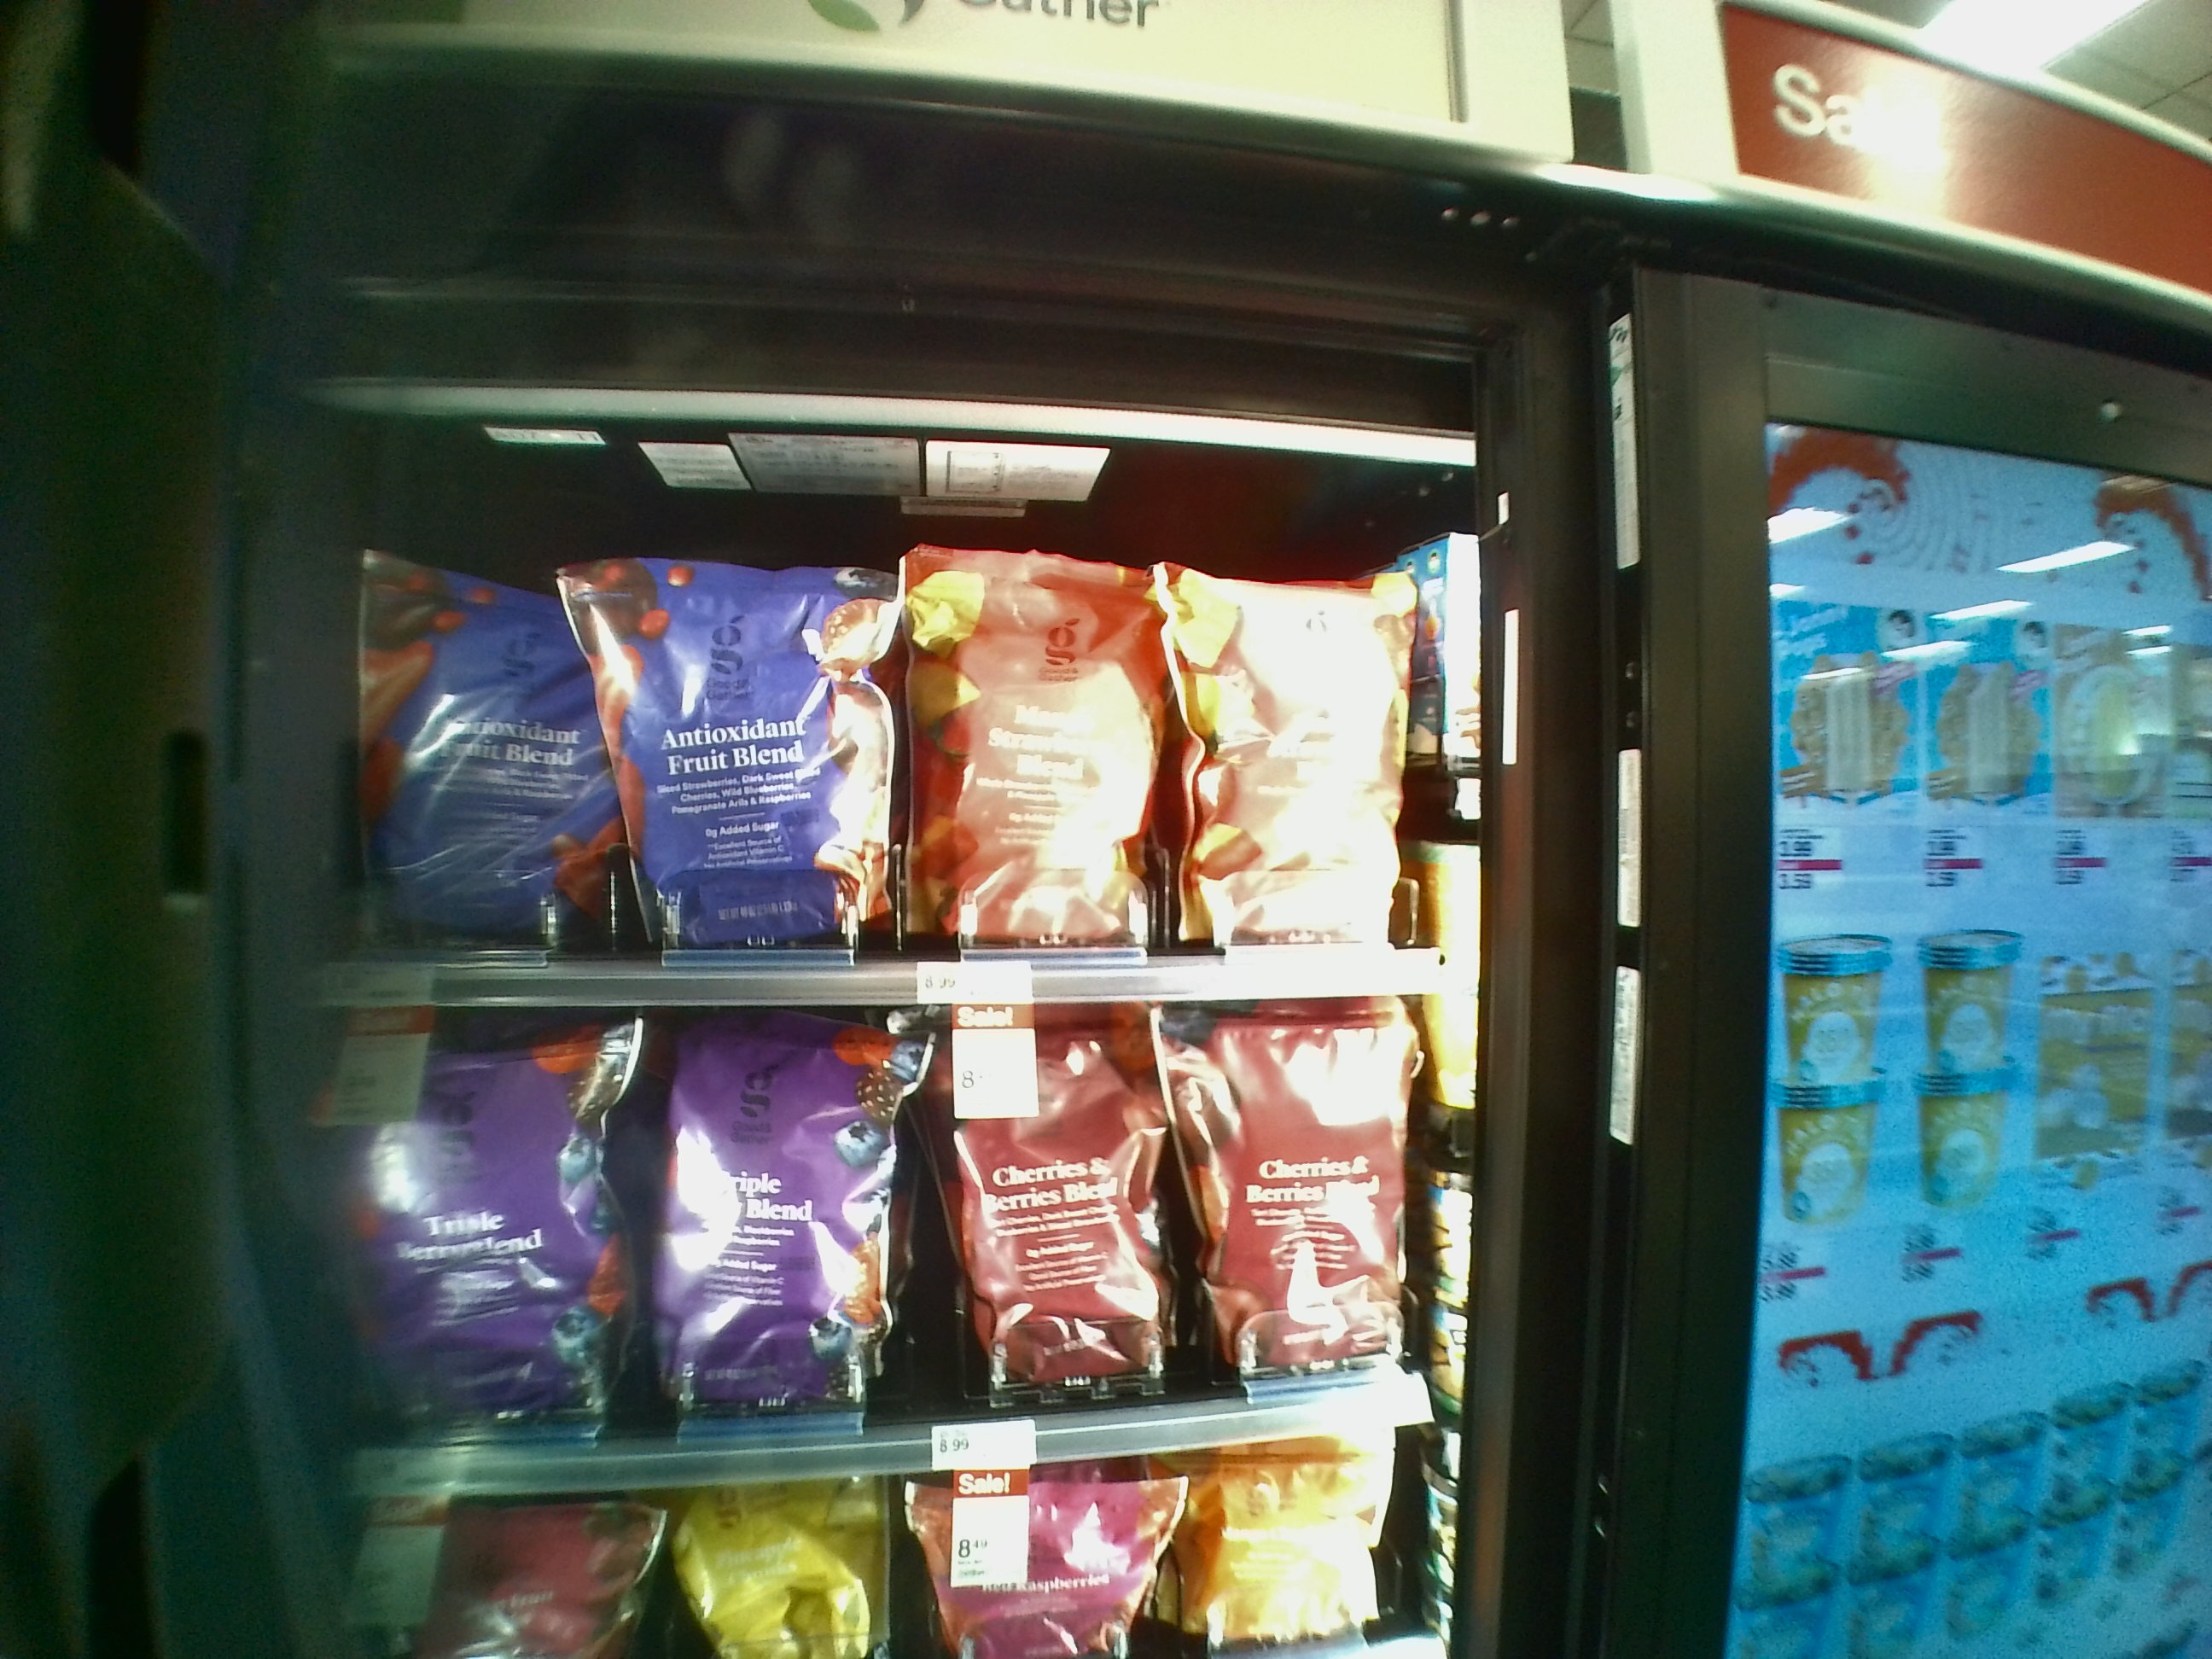shelf: (308, 420, 1489, 1009), (331, 1011, 1463, 1495)
